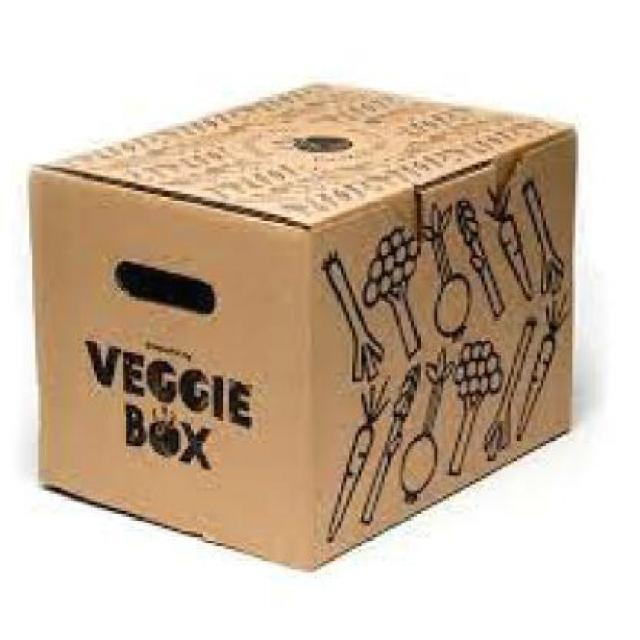box: (14, 71, 594, 578)
